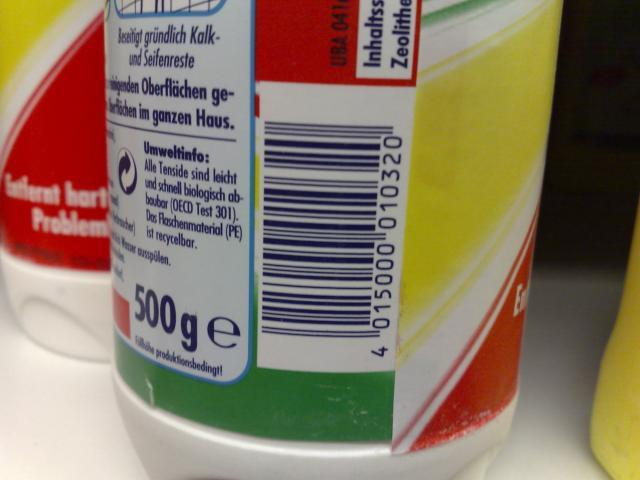Barcode: (253, 122, 411, 369)
